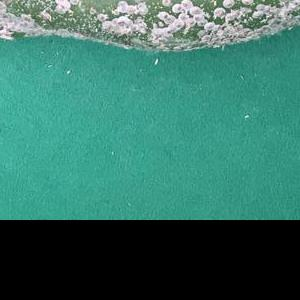Femea: (199, 23, 239, 44), (172, 0, 203, 26), (159, 11, 168, 18)
Macho: (152, 58, 160, 65)
